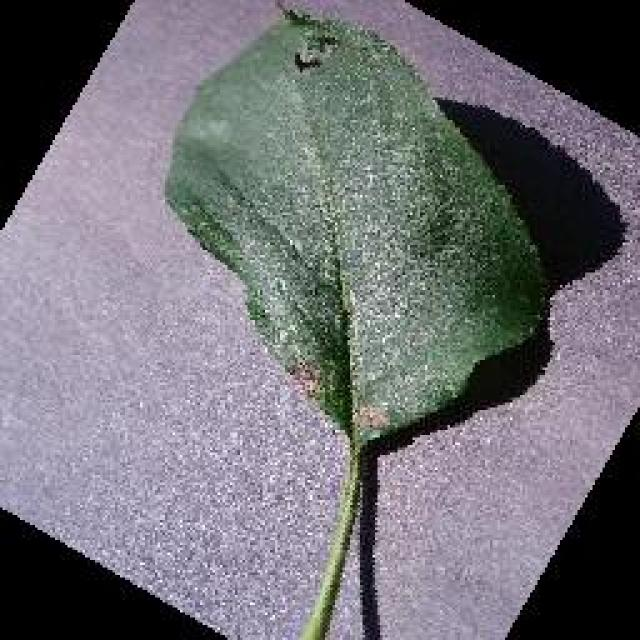apple healthy: (160, 2, 552, 450)
